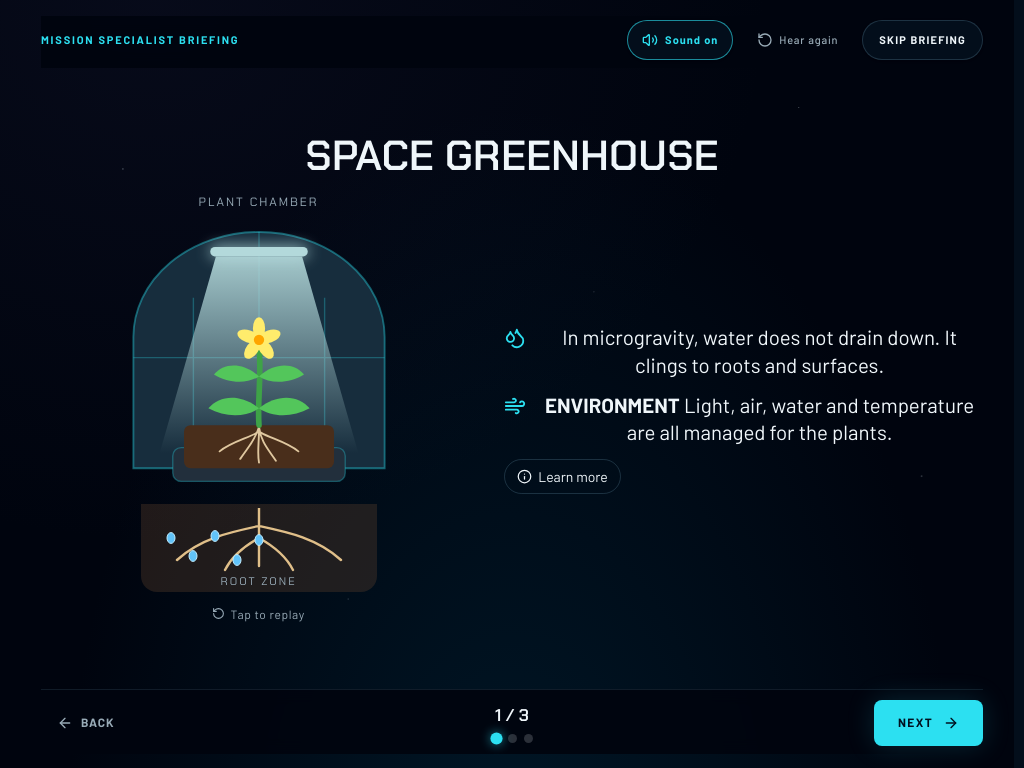
Test: Specialist Mission 2 briefing (ages 10-12) › keeps Learn more closed until the player asks
Click the button "Learn more": click(562, 476) left=504, top=459, right=621, bottom=494
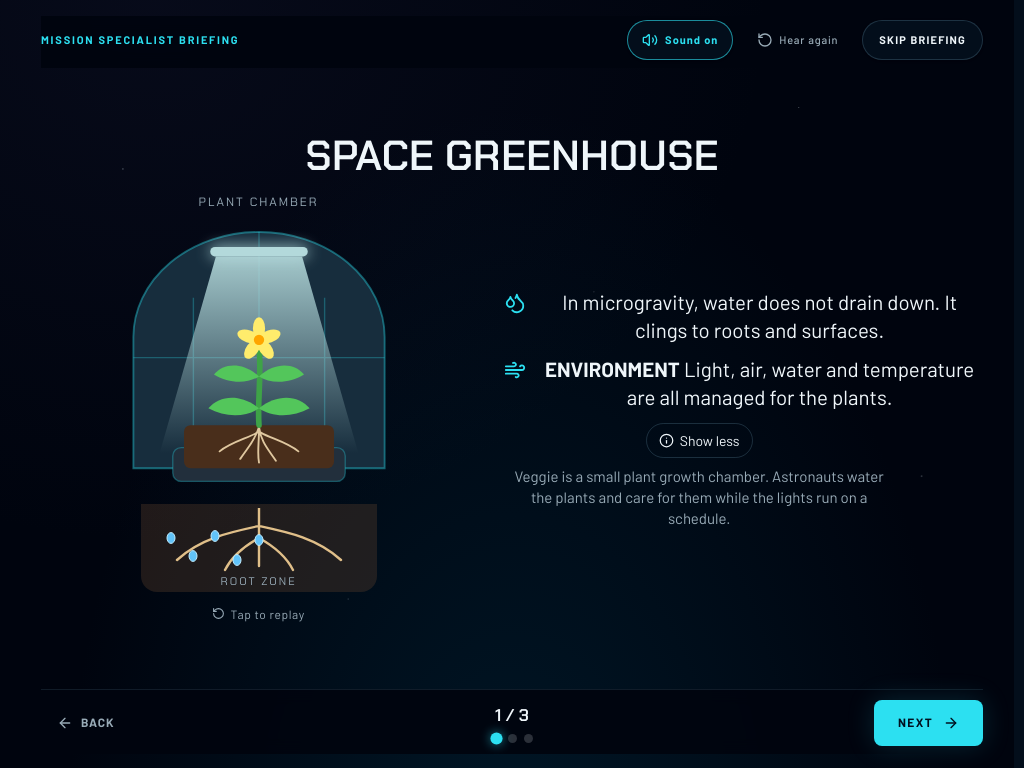
Result: the button named "Learn more" is expanded at left=646, top=424, right=752, bottom=458
